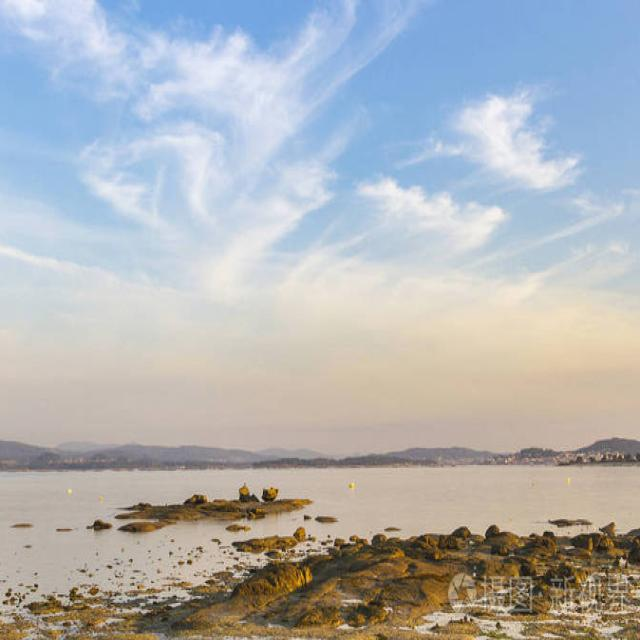reef: (419, 505, 640, 629), (97, 467, 298, 533)
